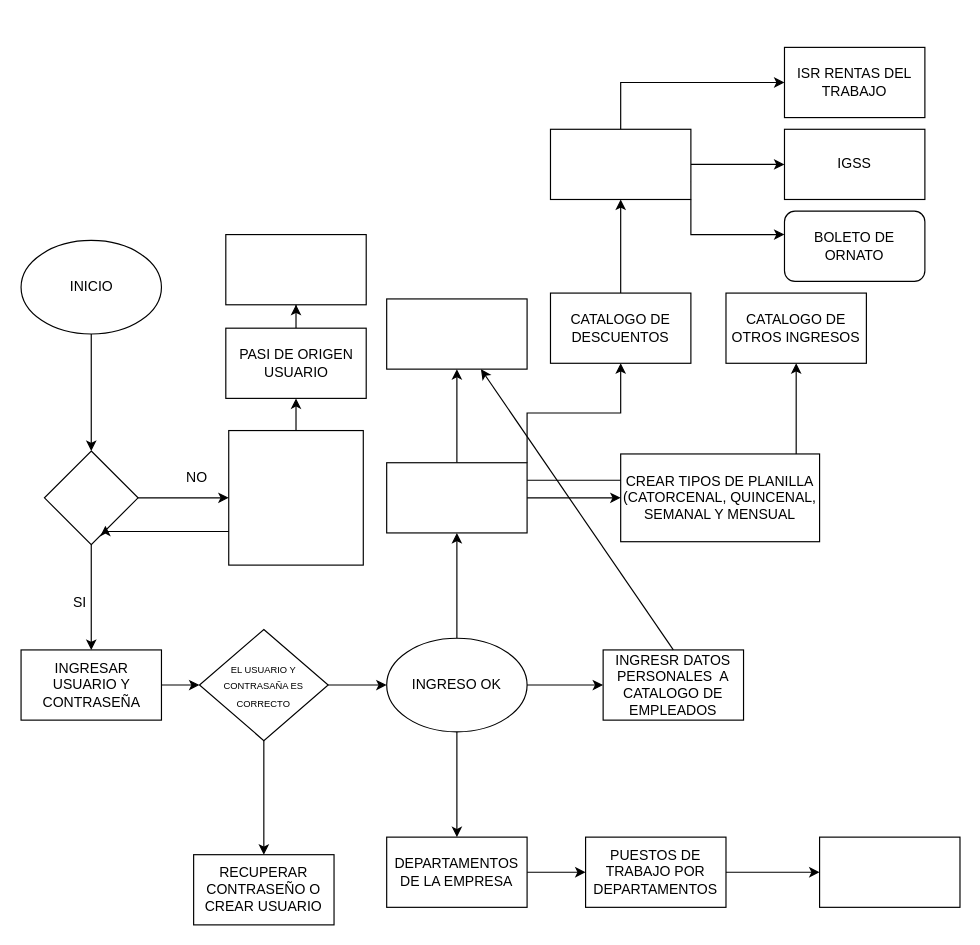
Image size: 980x945. Some labels were removed from this diagram. The shapes that lost their labels are listed below. From the top down, each one's centre as x and y in pixels, then its label:
At (x=620, y=163): "IMPUESTOS".
At (x=295, y=269): "CIUDAD DE ORIGEN USUARIO".
At (x=456, y=333): "PAIS DE ORIGEN".
At (x=90, y=497): "TIENE USUARIO".
At (x=295, y=497): "CREAR DATOS PERSONALES DE USUARIO".
At (x=456, y=497): "INGRESAR DATOS DE EMPRESA".
At (x=889, y=871): "ESCALA DE SUELDOS".
